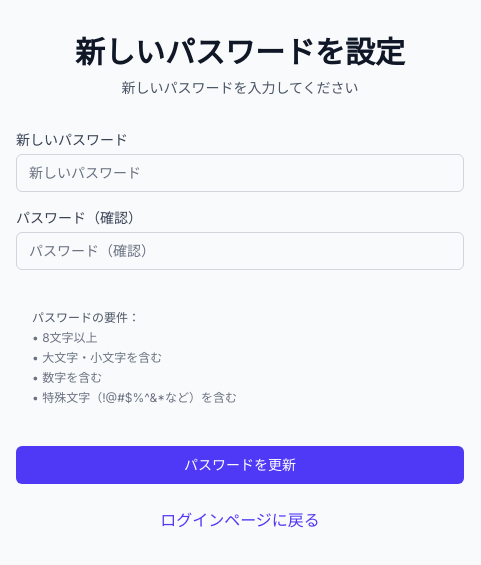
Test: ResetPasswordPage › トークンありの場合（パスワード設定） › パスワード確認の一致チェックが機能する
Type "Test123!@#" into the password field labelled "新しいパスワード". click: [240, 173]
box: 16,154 -> 464,192
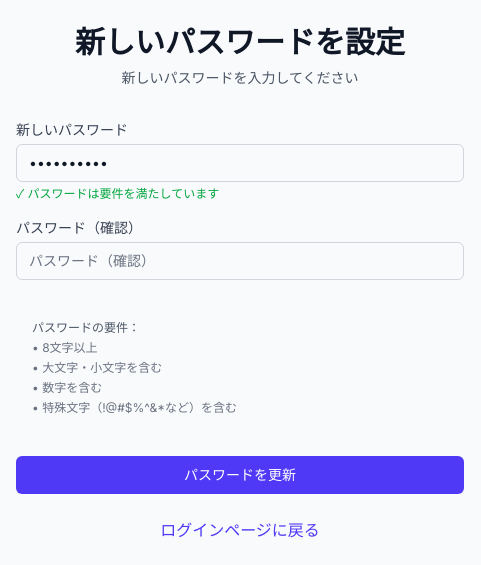
Type "Different123!@#" into the password field labelled "パスワード（確認）". click: [240, 261]
box: 16,242 -> 464,280
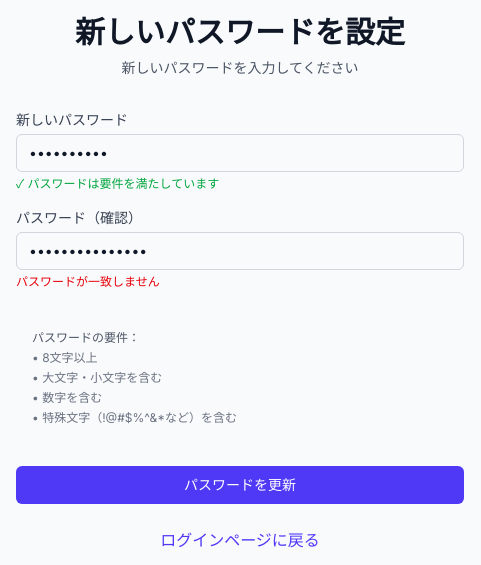
Expected: the text "パスワードが一致しません" is shown, 16,274 -> 160,289
